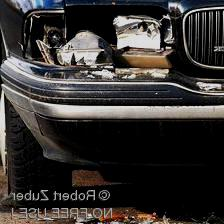head_lamp: (19, 11, 173, 83)
